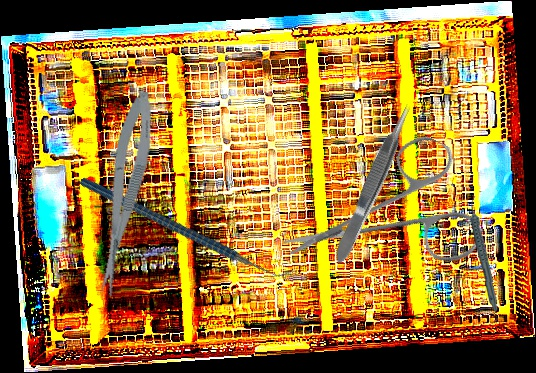Chopper: (78, 117, 299, 338)
Handpiece: (467, 195, 502, 312)
Iris Scissors: (279, 99, 512, 328)
Micro Scissor: (85, 88, 162, 298)
Tissue Forceps: (327, 100, 420, 267)
